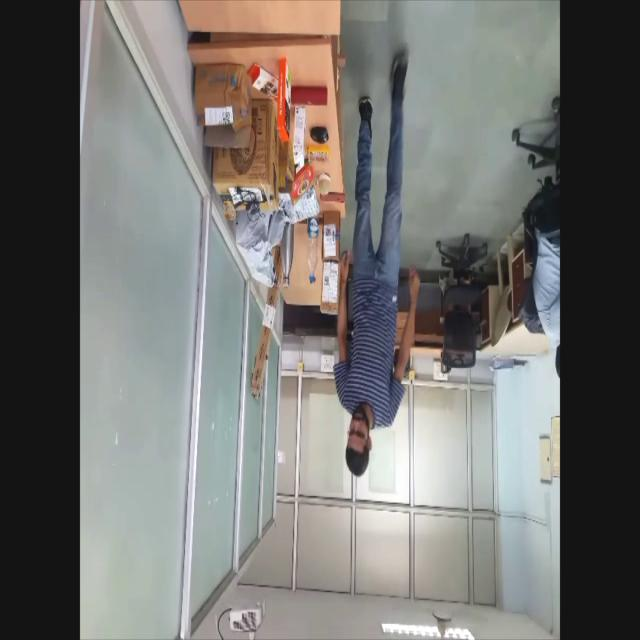normal: (334, 41, 423, 490)
